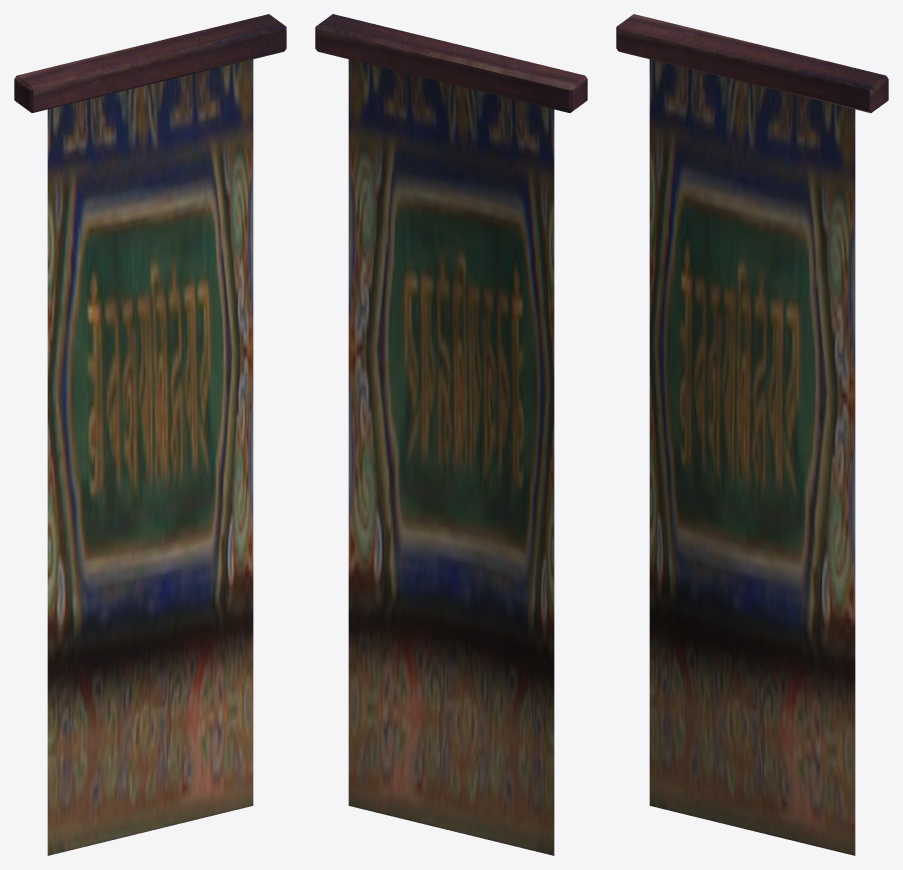
The model's file is banner.obj.
3 renders of one model, left to right at view 1: azimuth 30°, elevation 25°; view 2: azimuth 150°, elevation 25°; view 3: azimuth 330°, elevation 25°, orthographic.
Parts seen in each view (by area): view 1: Hanging_decorative_panel, Hanging_crossbar; view 2: Hanging_decorative_panel, Hanging_crossbar; view 3: Hanging_decorative_panel, Hanging_crossbar.
Boxes of the visible parts, box(x1,y1,x2,y2) form: Hanging_decorative_panel: box(47, 59, 253, 855); Hanging_crossbar: box(14, 14, 286, 112); Hanging_decorative_panel: box(348, 59, 554, 855); Hanging_crossbar: box(315, 14, 587, 112); Hanging_decorative_panel: box(649, 59, 855, 855); Hanging_crossbar: box(616, 14, 888, 112).
Bounding box in the file's own units: 8.7 × 25.22 × 1.13.
Materials: 2 (2 with a texture image).
